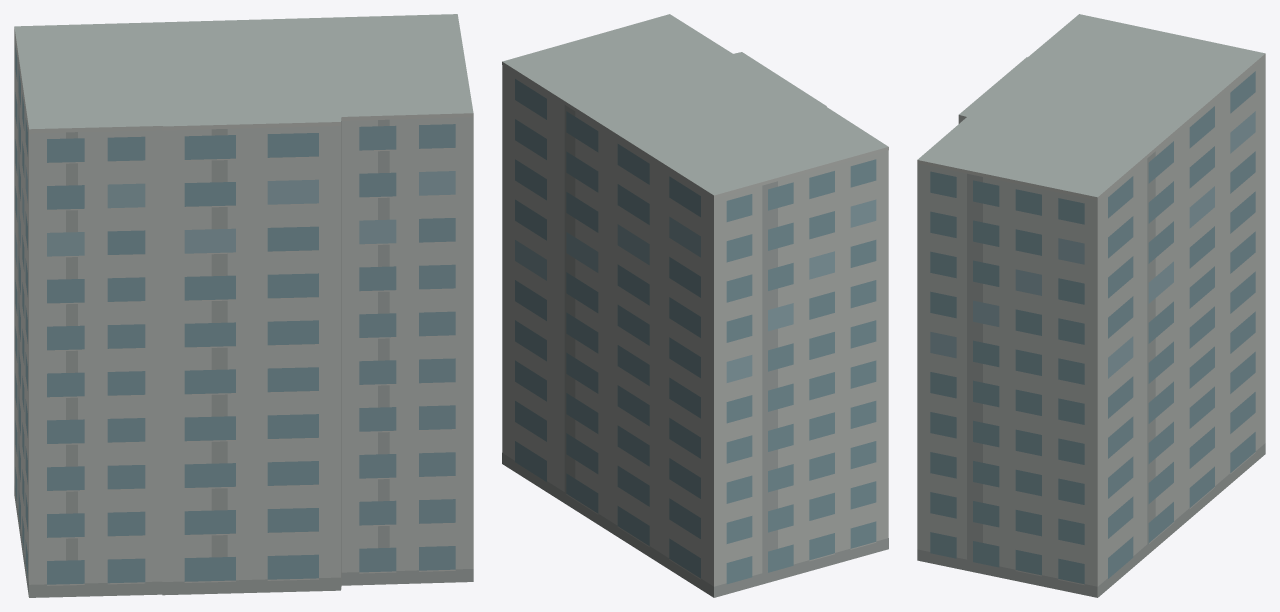
File: survey-upis-32839045.glb
The picture shows the model from 3 angles, left to right: view 1: azimuth 30°, elevation 25°; view 2: azimuth 150°, elevation 25°; view 3: azimuth 270°, elevation 25°; orthographic projection. The views are drawn at different scales.
Visible parts, largest first — view 1: survey-upis-32839045.tmp; view 2: survey-upis-32839045.tmp; view 3: survey-upis-32839045.tmp.
Part boxes in pixels (x1=…): survey-upis-32839045.tmp: x1=14, y1=14, x2=473, y2=597; survey-upis-32839045.tmp: x1=502, y1=14, x2=888, y2=597; survey-upis-32839045.tmp: x1=917, y1=14, x2=1265, y2=597.
Bounding box in the file's own units: 27.44 × 27.95 × 22.04.
